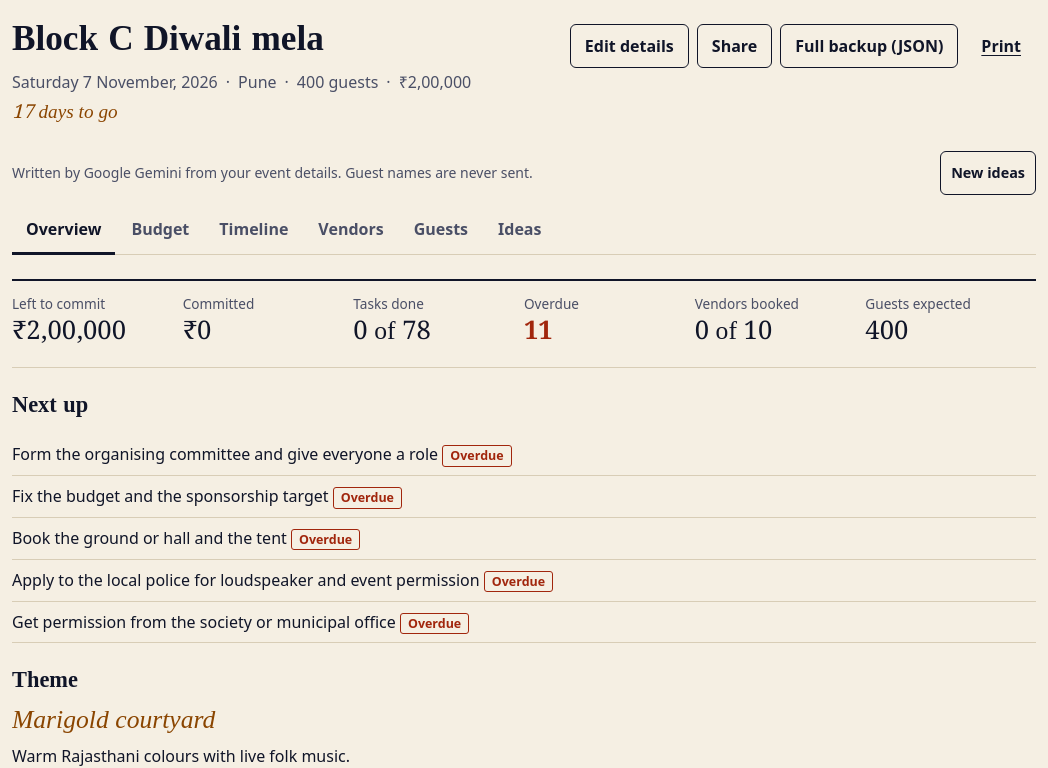
timeline › stops offering to add tasks at the limit
Step 1. Click the tab "Timeline" → (254,231), box [205,207,302,255]
(page scrolled)
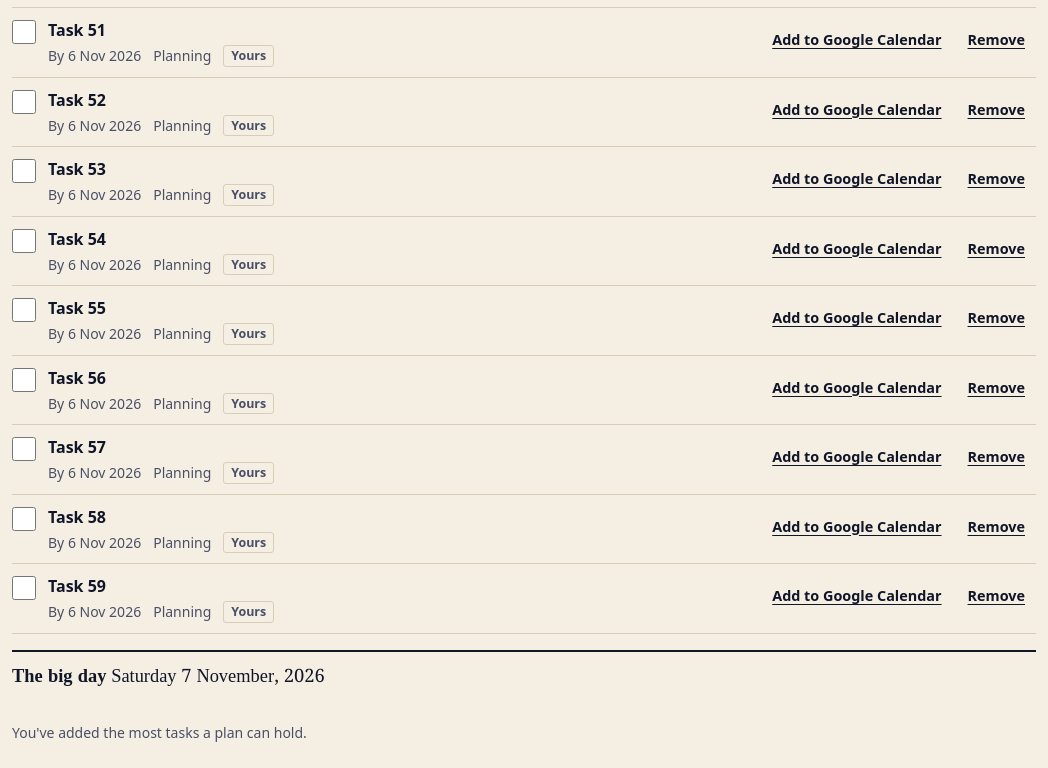
Result: the text "You've added the most tasks a plan can hold." is shown at [12,723,307,742]
